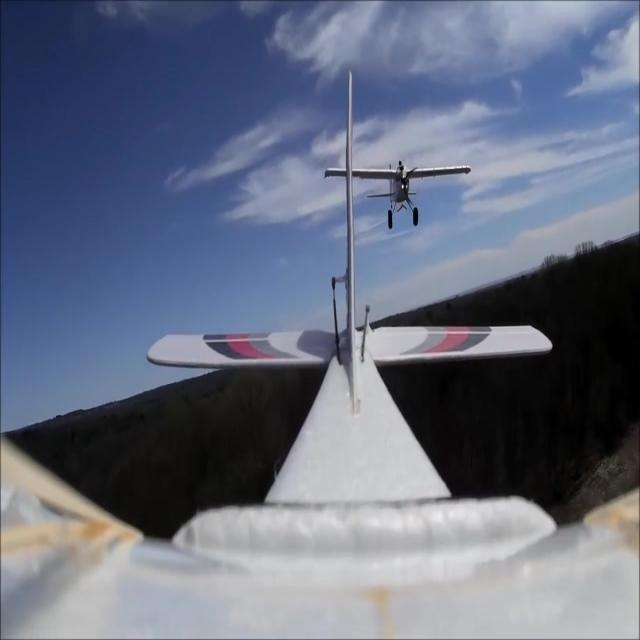iha: (324, 191, 471, 194)
